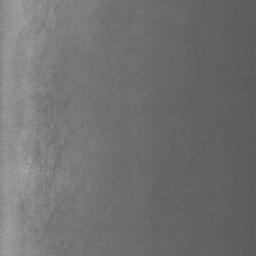Silk spot: (0, 0, 80, 256), (91, 16, 114, 41)
